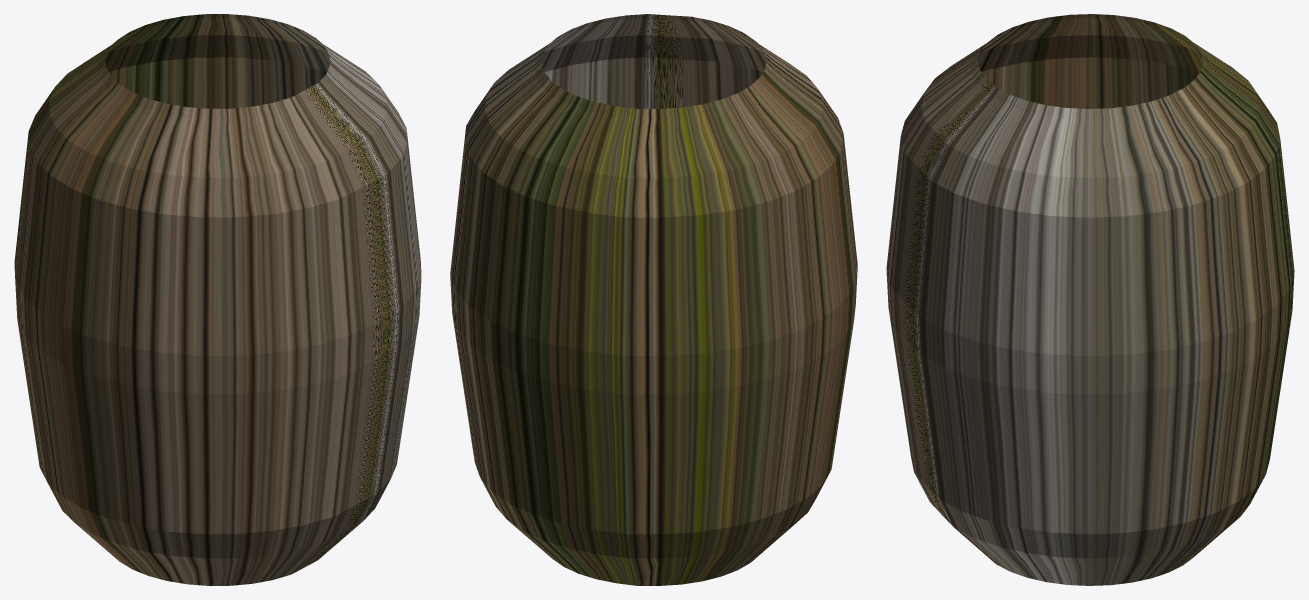
The model's file is barrel.fbx.
3 views of the same model, side by side, from view 1: azimuth 30°, elevation 25°; view 2: azimuth 150°, elevation 25°; view 3: azimuth 270°, elevation 25° (orthographic).
Visible parts, largest first — view 1: turnip-barrell, turnip-barrell-bands; view 2: turnip-barrell, turnip-barrell-bands; view 3: turnip-barrell, turnip-barrell-bands.
Part boxes in pixels (x1,y1,x2,y2): turnip-barrell: (14, 14, 421, 585); turnip-barrell-bands: (15, 35, 421, 558); turnip-barrell: (450, 14, 857, 585); turnip-barrell-bands: (450, 35, 857, 558); turnip-barrell: (886, 14, 1294, 585); turnip-barrell-bands: (886, 35, 1294, 558).
Size of the model in its own units: 49.67 by 64.09 by 49.67.
1 material, 1 textured.
